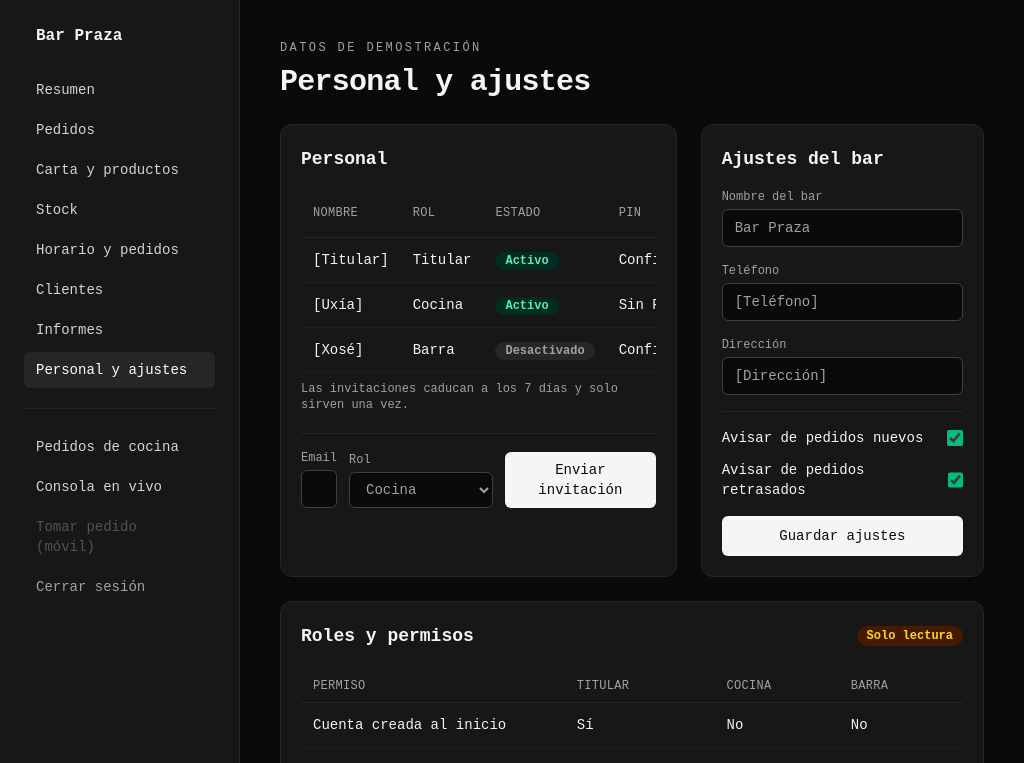
Test case: TeamPage edge cases › shows the rule message when the email already has a live invitation
The image size is (1024, 763).
Type "brais@bar.es" into the field labelled "Email" at (319, 489), box top-left (301, 470), bottom-right (337, 508)
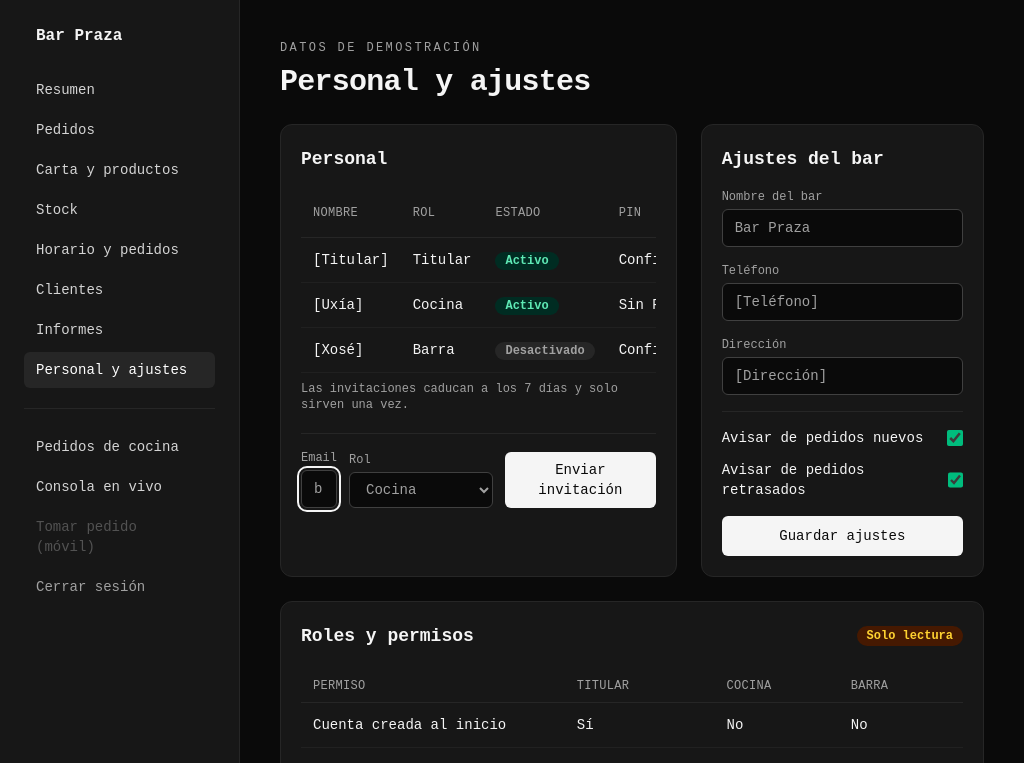
Click the button "Enviar invitación" at (580, 480), box top-left (505, 452), bottom-right (656, 508)
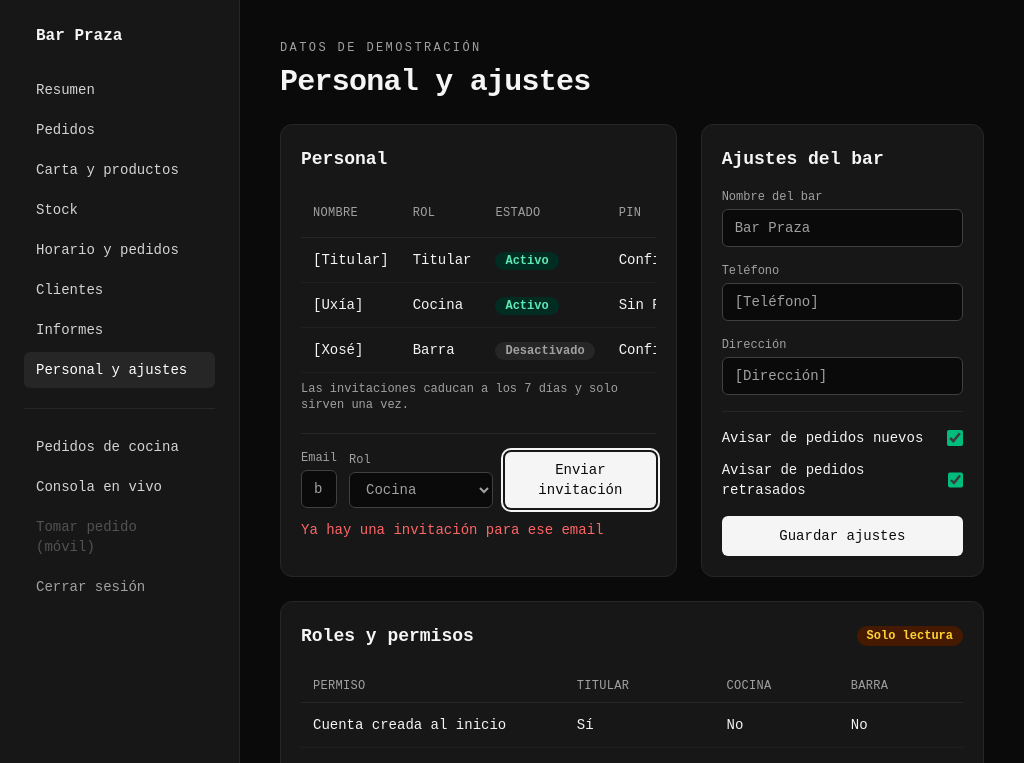
Result: the message reads "Ya hay una invitación para ese email" at top-left (301, 522), bottom-right (604, 538)
